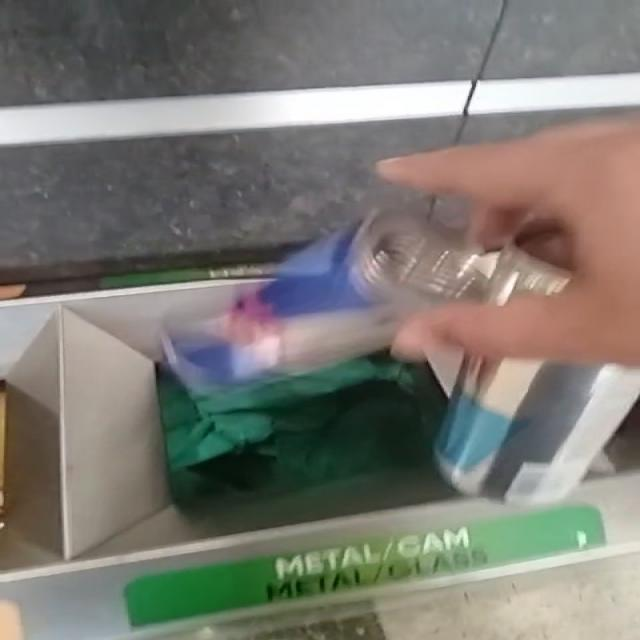Bin: (1, 281, 459, 560)
Metal: (167, 204, 569, 388)
